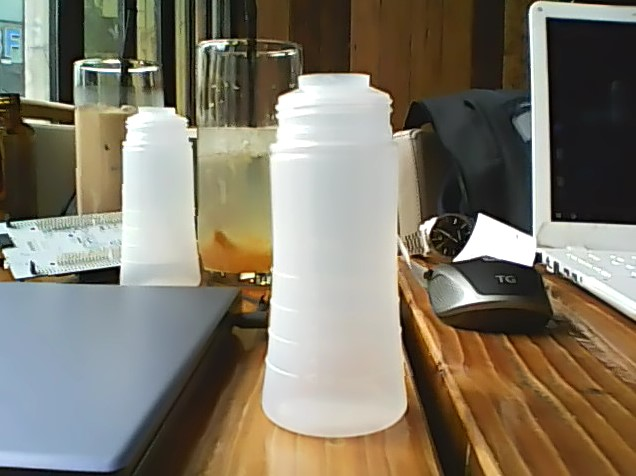Plastic: (255, 71, 414, 440)
